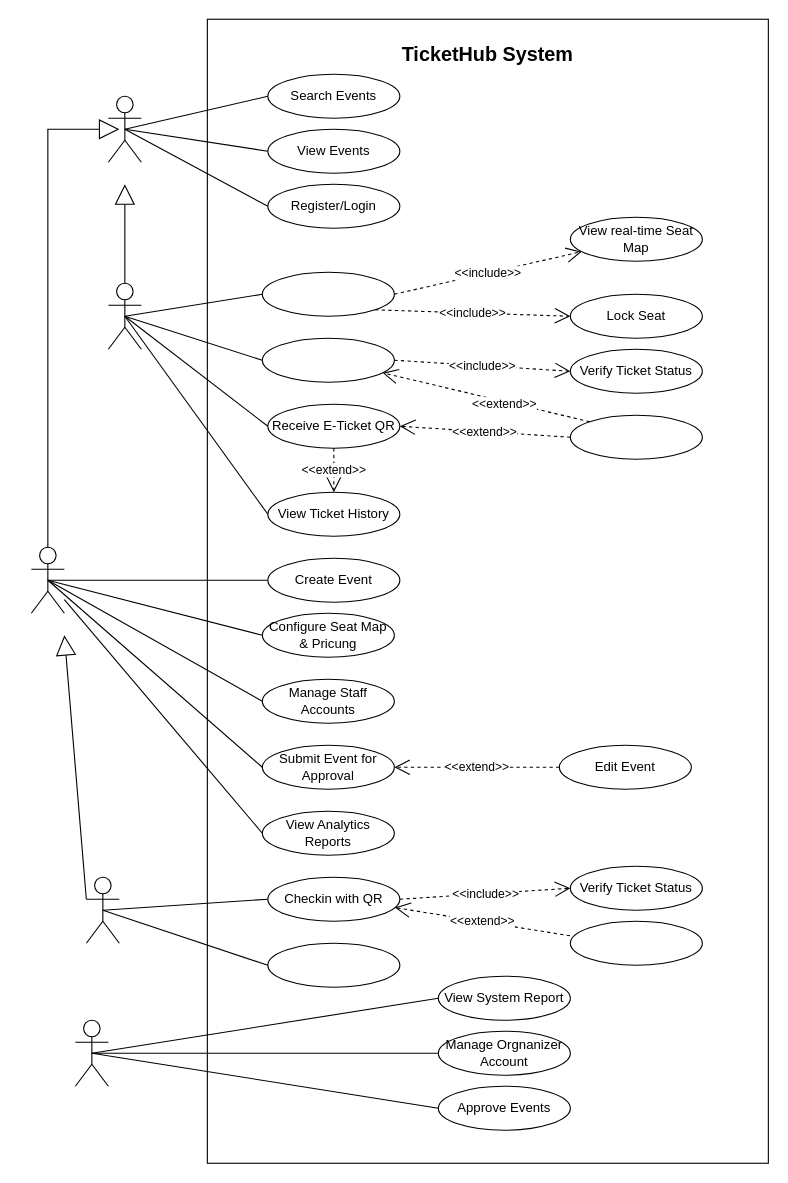
This 788x1183 diagram has some shape labels left out. The shapes that lost their labels are listed below. From the top down, each one's box as (x1, y1, x2, y2) in pixels, then its label:
(107, 95, 141, 162): Guest
(261, 271, 394, 316): Book ticket
(107, 282, 141, 349): Customer
(261, 337, 394, 382): Make Payment
(569, 414, 702, 459): Receive Notifications
(30, 546, 64, 613): Organizer
(85, 876, 119, 943): Staff
(569, 920, 702, 965): Manual Checkin by Code
(267, 942, 400, 987): View Scan History
(74, 1019, 108, 1086): Admin
